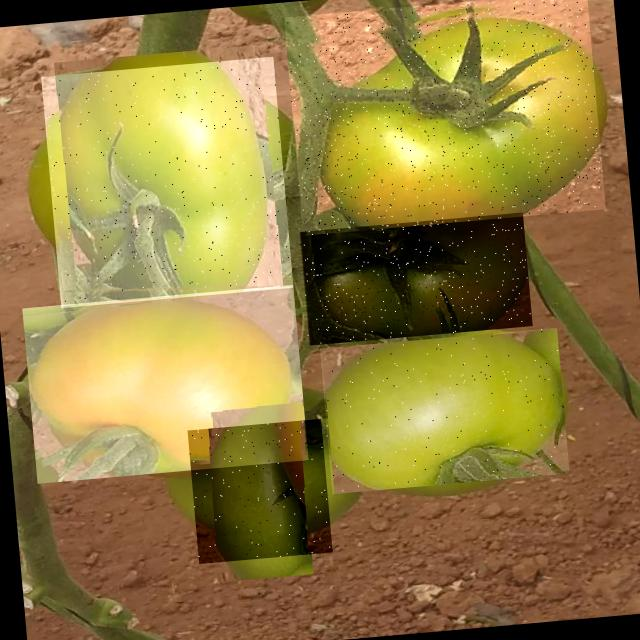Unripe Tomato: (283, 0, 605, 235), (41, 56, 293, 308), (22, 284, 308, 483), (317, 328, 569, 493), (297, 212, 532, 345), (187, 418, 332, 564)
